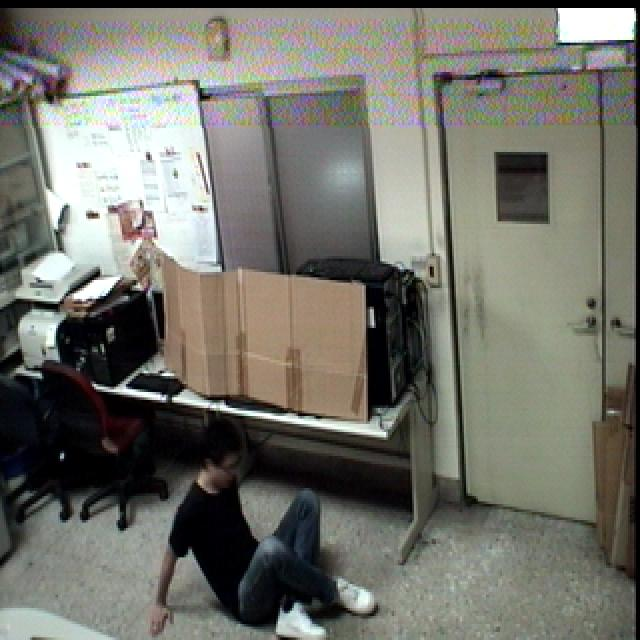sit: (134, 415, 382, 640)
